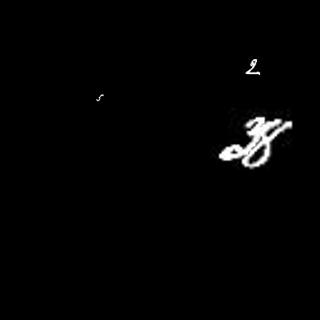five: (93, 91, 109, 106)
two: (243, 60, 265, 80)
